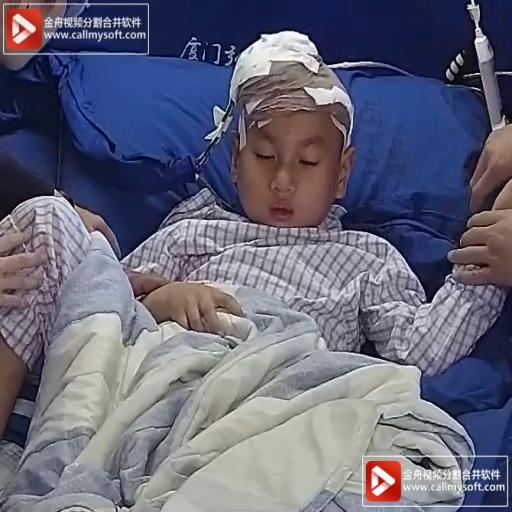Seizure: (216, 32, 357, 232)
